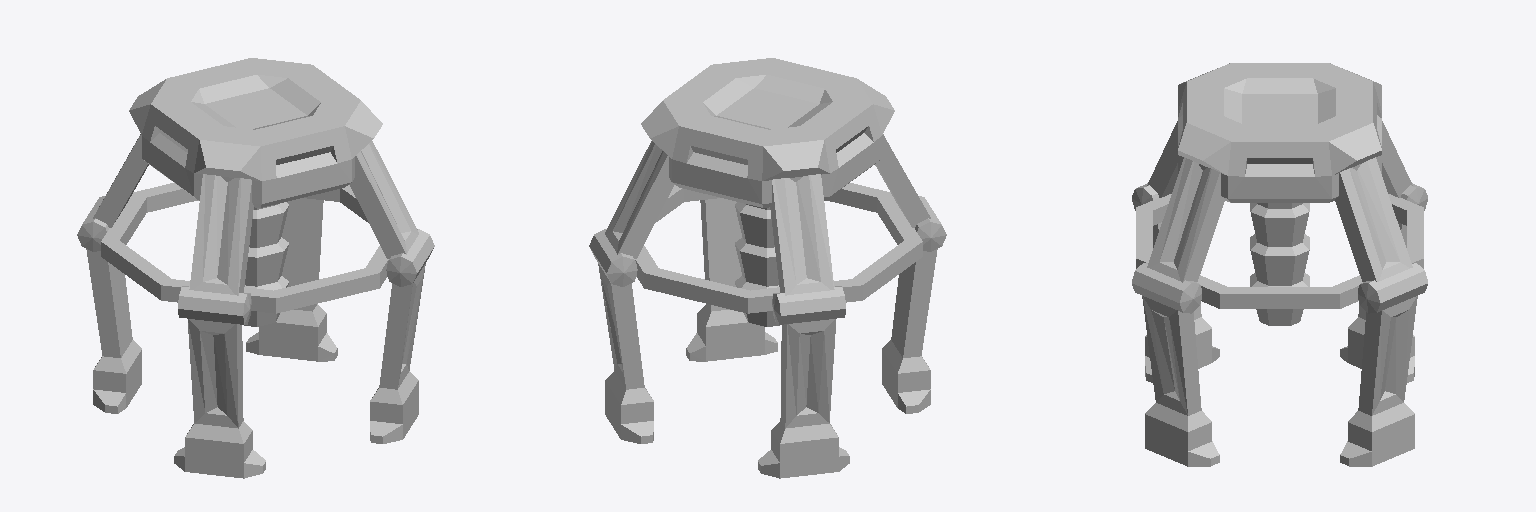
File: drill_structure.obj
3 renders of one model, left to right at view 1: azimuth 30°, elevation 25°; view 2: azimuth 150°, elevation 25°; view 3: azimuth 270°, elevation 25°, orthographic.
Parts seen in each view (by area): view 1: drill_structure_Cylinder.2728; view 2: drill_structure_Cylinder.2728; view 3: drill_structure_Cylinder.2728.
Part boxes in pixels (left/top/right/bottom): drill_structure_Cylinder.2728: left=77, top=58, right=434, bottom=478; drill_structure_Cylinder.2728: left=589, top=58, right=946, bottom=478; drill_structure_Cylinder.2728: left=1132, top=63, right=1427, bottom=466.
Size of the model in its own units: 1.75 by 2 by 1.75.